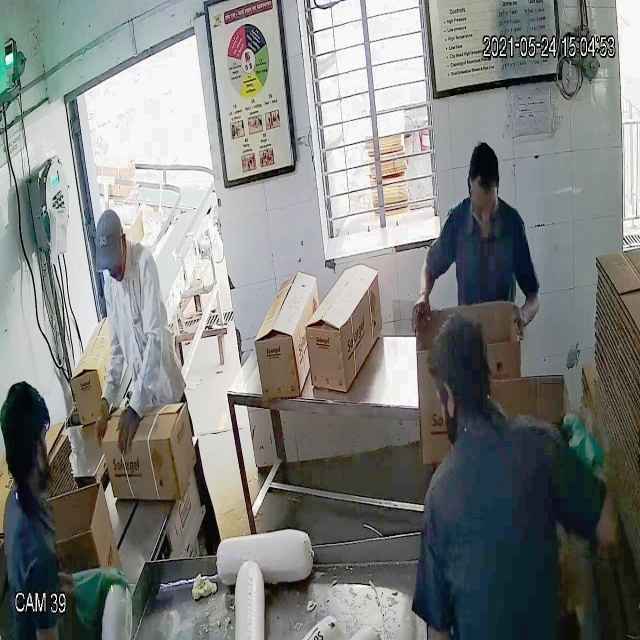Gafas: (466, 180, 501, 226)
